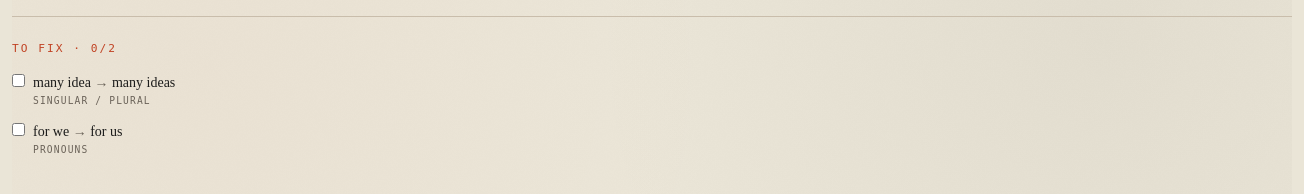
Scenario: RevisionChecklist › keeps the note hidden until the row is opened
This screenshot has width=1304, height=194.
Expected: the text "Use the plural after 'many'." is not shown
Click the button "many idea → many ideas Singular / plural" at (62,82), box [33, 73, 1292, 107]
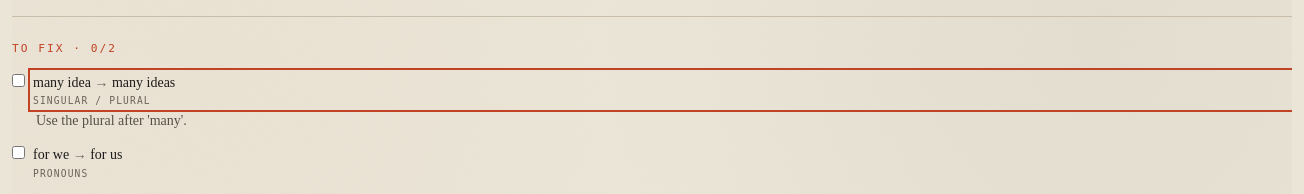
Result: the text "Use the plural after 'many'." is shown at [36, 113, 187, 128]
